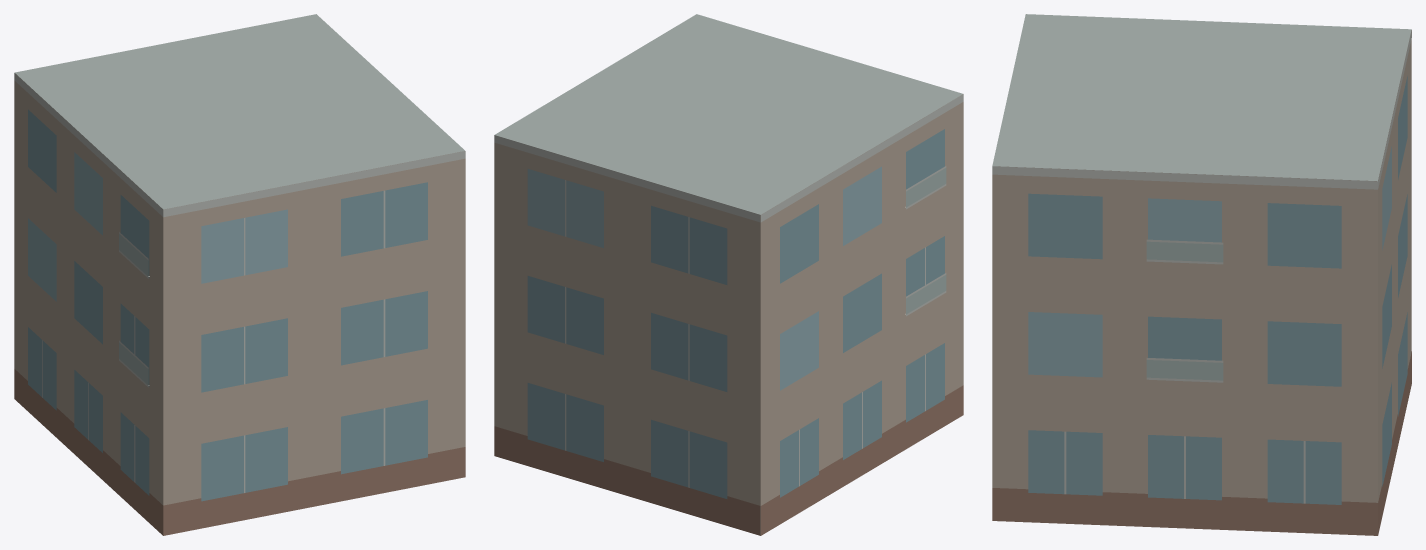
The model's file is survey-upis-32828880.glb.
3 views of the same model, side by side, from view 1: azimuth 30°, elevation 25°; view 2: azimuth 150°, elevation 25°; view 3: azimuth 270°, elevation 25° (orthographic). The views are drawn at different scales.
Parts seen in each view (by area): view 1: survey-upis-32828880.tmp; view 2: survey-upis-32828880.tmp; view 3: survey-upis-32828880.tmp.
Boxes of the visible parts, box(x1,y1,x2,y2) form: survey-upis-32828880.tmp: box(14, 14, 465, 535); survey-upis-32828880.tmp: box(494, 14, 963, 535); survey-upis-32828880.tmp: box(992, 14, 1411, 535).
Bounding box in the file's own units: 10.32 × 10.2 × 10.94.
